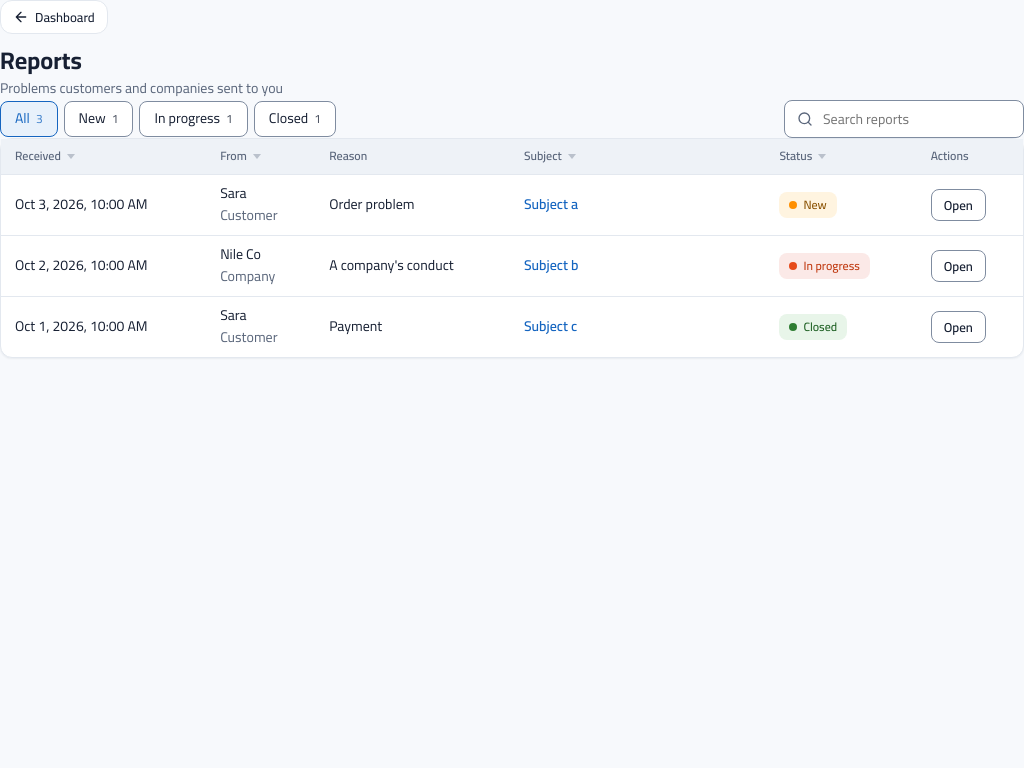
Scenario: handling one › moves the report along and writes the reply the sender will read
Click the button "Open" in the row of "Oct 3, 2026, 10:00 AM" at point(958, 205), box [931,189,986,221]
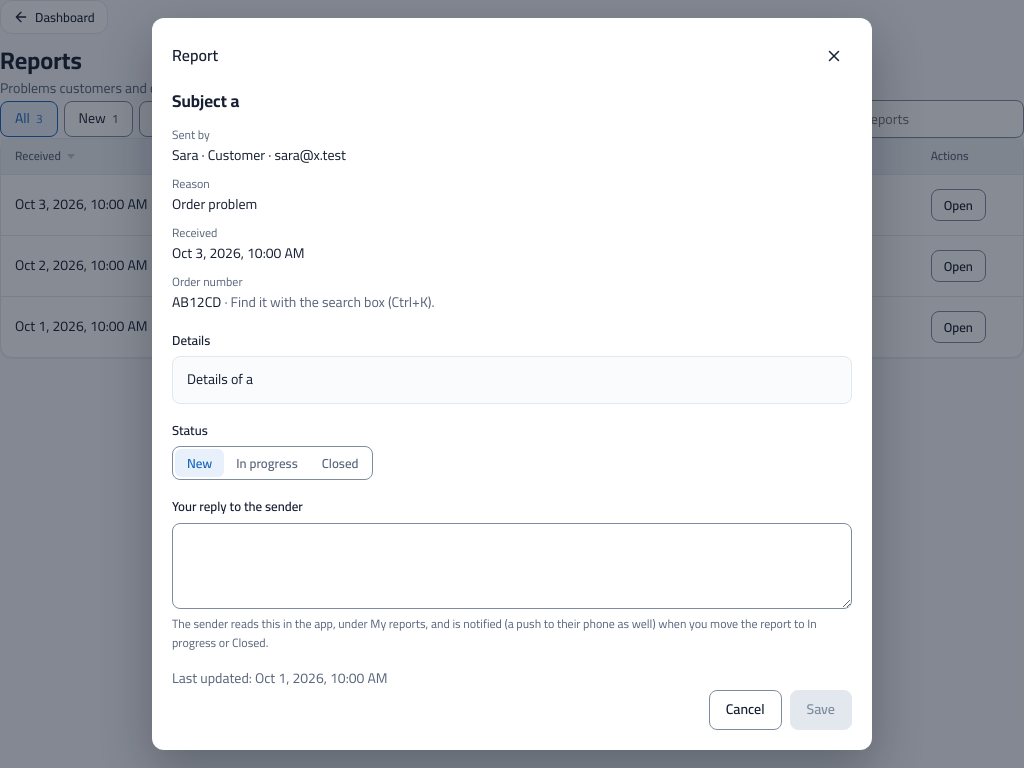
Click the button "Closed" at point(340, 463), box [310,449,370,477]
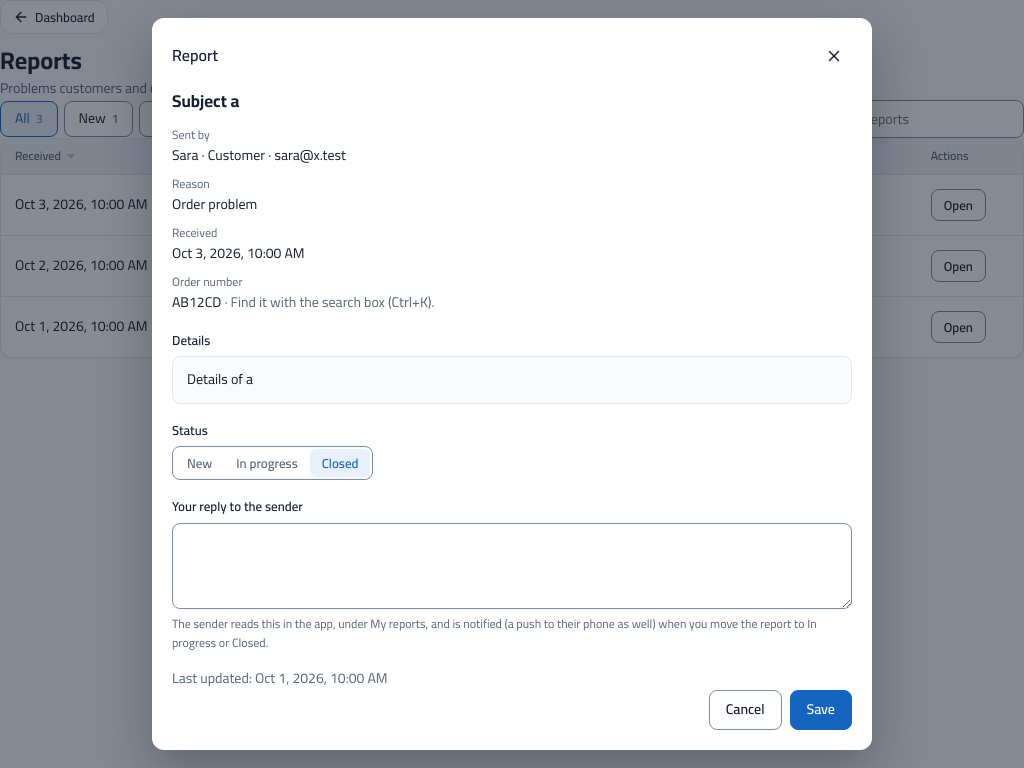
Type " Sorted. " into the text box labelled "Your reply to the sender" at point(512, 566), box [172,523,852,609]
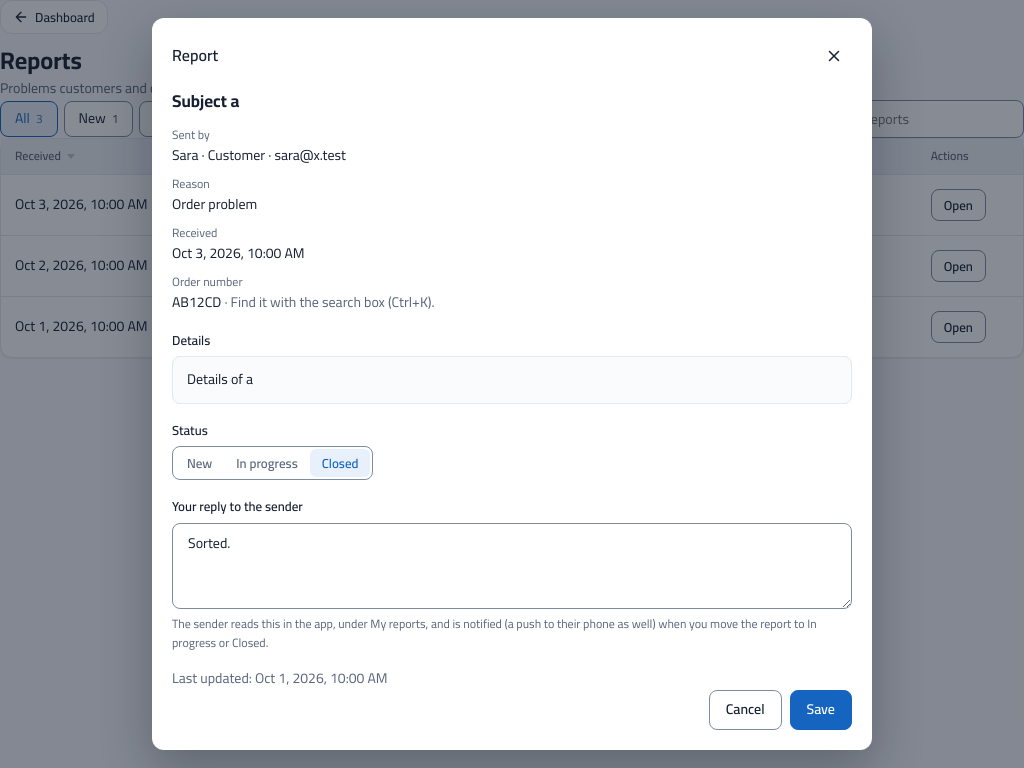
Click the button "Save" at point(821, 710), box [790,690,852,730]
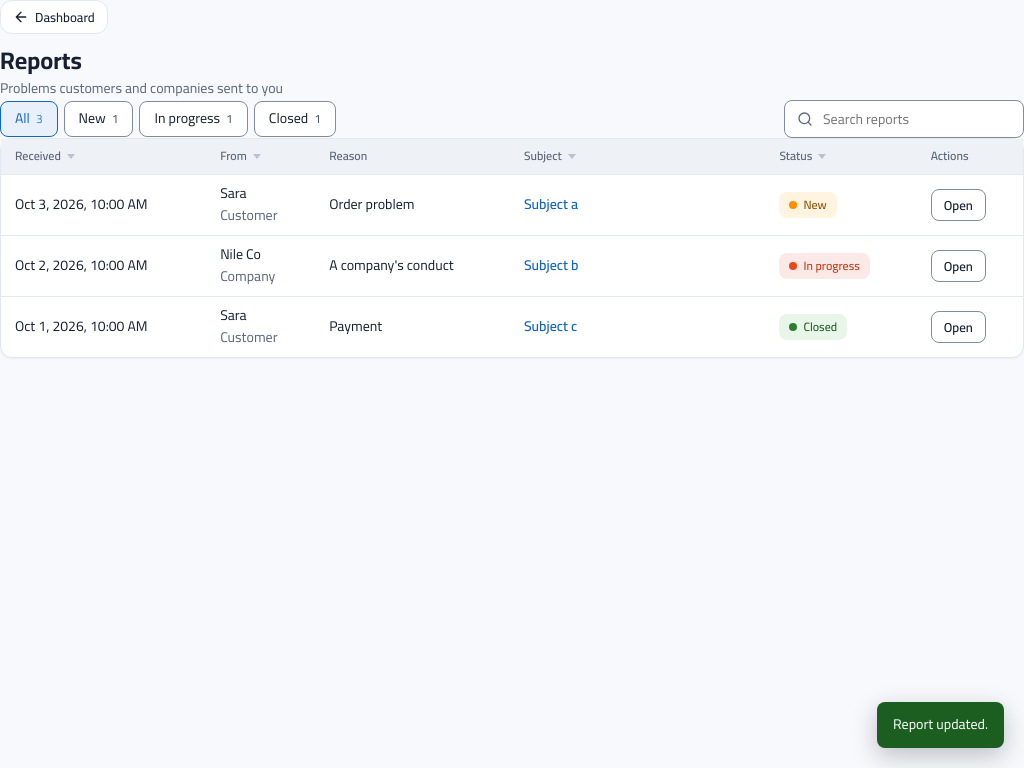
Expected: the text "Report updated." is shown, [877,702,1004,748]
Expected: the dialog is gone
